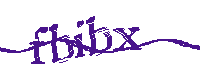b: (84, 14, 113, 57), (48, 23, 73, 64)
f: (30, 26, 49, 65)
i: (73, 16, 86, 60)
x: (114, 25, 142, 54)
